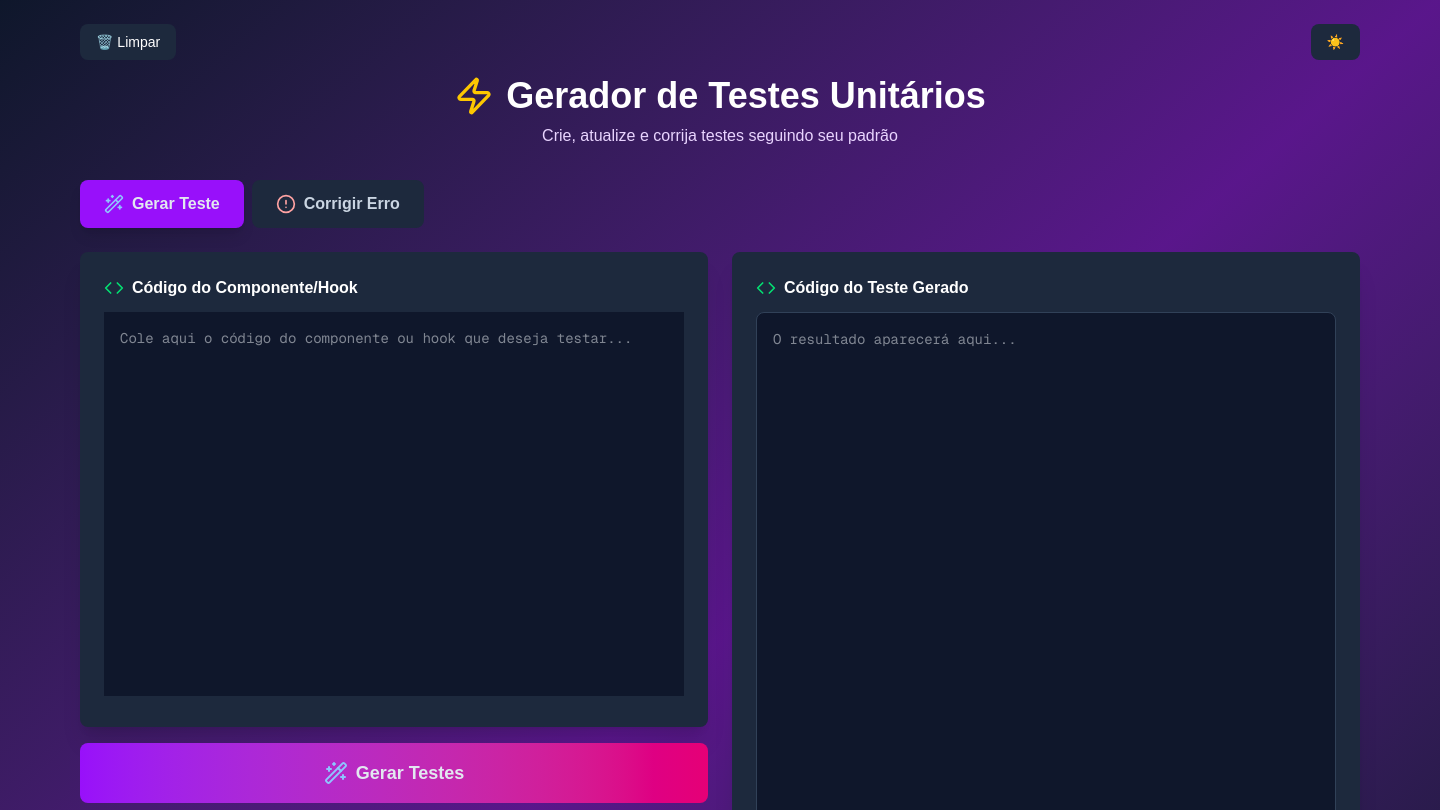
Test case: TestGeneratorTool › should show error message in generating code
Click the button with test id "generate-button".
click(394, 773)  # box [80, 743, 708, 803]
(page scrolled)
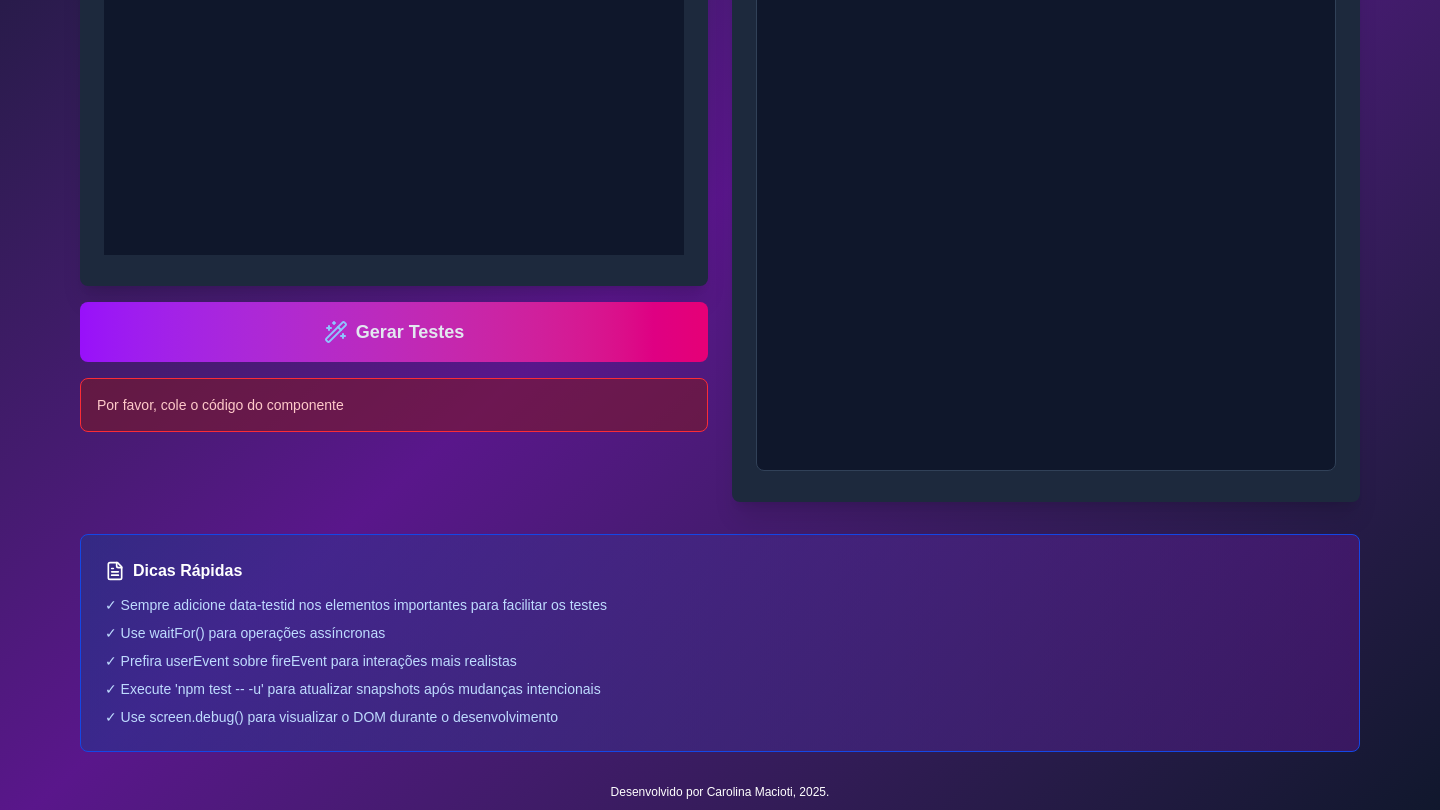
Check: the text with test id "generate-error-message" reads "Por favor, cole o código do componente", box [97, 397, 344, 413]
